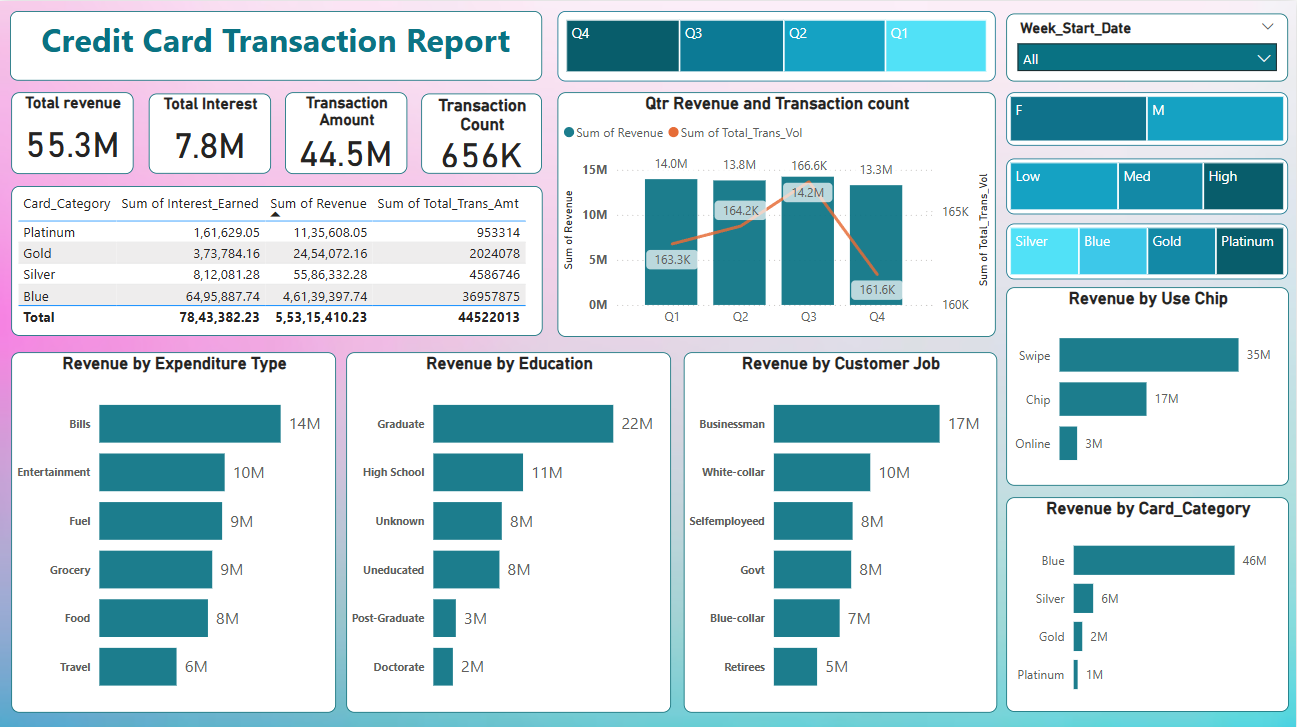

The dashboard page shown, as its layout file describes it:
{"tool":"powerbi","page":{"name":"Page 2","canvas":[1280,720],"ordinal":0},"visuals":[{"type":"textbox","box":[10.3,10.3,525.3,69],"z":0},{"type":"lineStackedColumnComboChart","title":"Qtr Revenue and Transaction count","fields":{"Category":["credit_card.Qtr"],"Y":["Sum(credit_card.Revenue)"],"Y2":["Sum(credit_card.Total_Trans_Vol)"]},"box":[551.2,90.2,432.9,241.5],"z":1000},{"type":"barChart","title":"Revenue by Expenditure Type","fields":{"Y":["Sum(credit_card.Revenue)"],"Category":["credit_card.Exp Type"]},"box":[10.8,346.4,321.2,356],"z":2000},{"type":"barChart","title":" Revenue by Education","fields":{"Y":["Sum(credit_card.Revenue)"],"Category":["customer.Education_Level"]},"box":[341.6,346.4,321.2,356],"z":3000},{"type":"barChart","title":"Revenue by Customer Job","fields":{"Y":["Sum(credit_card.Revenue)"],"Category":["customer.Customer_Job"]},"box":[674.8,346.4,309.2,356],"z":4000},{"type":"barChart","title":" Revenue by Card_Category","fields":{"Y":["Sum(credit_card.Revenue)"],"Category":["credit_card.Card_Category"]},"box":[993.9,490.2,279.3,212.2],"z":5000},{"type":"barChart","title":"Revenue by Use Chip","fields":{"Y":["Sum(credit_card.Revenue)"],"Category":["credit_card.Use Chip"]},"box":[993.9,282.9,279.3,196.3],"z":6000},{"type":"tableEx","fields":{"Values":["credit_card.Card_Category","Sum(credit_card.Interest_Earned)","Sum(credit_card.Revenue)","Sum(credit_card.Total_Trans_Amt)"]},"box":[11.7,183.1,524.7,148.1],"z":7000},{"type":"card","title":"Total revenue","fields":{"Values":["Sum(credit_card.Revenue)"]},"box":[11.7,89.6,120.8,80.5],"z":8000},{"type":"card","title":"Transaction Amount","fields":{"Values":["Sum(credit_card.Total_Trans_Amt)"]},"box":[281.8,89.6,120.8,80.5],"z":9000},{"type":"card","title":"Total Interest","fields":{"Values":["Sum(credit_card.Interest_Earned)"]},"box":[146.8,90.9,120.8,79.2],"z":10000},{"type":"card","fields":{"Values":["Sum(credit_card.Revenue)"]},"box":[1644.3,418.6,214.3,100],"z":11000},{"type":"card","title":"Transaction Count","fields":{"Values":["Sum(credit_card.Total_Trans_Vol)"]},"box":[415.6,90.9,119.5,79.2],"z":12000},{"type":"slicer","fields":{"Values":["credit_card.Week_Start_Date"]},"box":[993.9,12.2,278,67.1],"z":13000},{"type":"treemap","fields":{"Group":["credit_card.Qtr"],"Values":["Avg(credit_card.Client_Num)"]},"box":[551.2,9.8,432.9,69.5],"z":14000},{"type":"treemap","fields":{"Values":["Avg(credit_card.Client_Num)"],"Group":["customer.Gender"]},"box":[993.9,90.2,278,52.4],"z":15000},{"type":"treemap","fields":{"Values":["Avg(credit_card.Client_Num)"],"Group":["credit_card.Card_Category"]},"box":[993.9,219.5,278,54.9],"z":16000},{"type":"treemap","fields":{"Values":["CountNonNull(credit_card.Client_Num)"],"Group":["customer.IncomeGroup"]},"box":[993.9,156.1,278,54.9],"z":17000}]}

Visuals, with their boxes in screenshot pixels (x1, y1, x2, y2), scaled from the page's 1280x720 canvas onto the 1297x727 screenshot:
textbox: detection(10, 10, 543, 80)
"Qtr Revenue and Transaction count" lineStackedColumnComboChart: detection(559, 91, 997, 335)
"Revenue by Expenditure Type" barChart: detection(11, 350, 336, 709)
" Revenue by Education" barChart: detection(346, 350, 672, 709)
"Revenue by Customer Job" barChart: detection(684, 350, 997, 709)
" Revenue by Card_Category" barChart: detection(1007, 495, 1290, 709)
"Revenue by Use Chip" barChart: detection(1007, 286, 1290, 484)
tableEx - credit_card.Card_Category x Sum(credit_card.Interest_Earned): detection(12, 185, 544, 334)
"Total revenue" card: detection(12, 90, 134, 172)
"Transaction Amount" card: detection(286, 90, 408, 172)
"Total Interest" card: detection(149, 92, 271, 172)
"Transaction Count" card: detection(421, 92, 542, 172)
slicer - credit_card.Week_Start_Date: detection(1007, 12, 1289, 80)
treemap - credit_card.Qtr x Avg(credit_card.Client_Num): detection(559, 10, 997, 80)
treemap - Avg(credit_card.Client_Num) x customer.Gender: detection(1007, 91, 1289, 144)
treemap - Avg(credit_card.Client_Num) x credit_card.Card_Category: detection(1007, 222, 1289, 277)
treemap - CountNonNull(credit_card.Client_Num) x customer.IncomeGroup: detection(1007, 158, 1289, 213)
